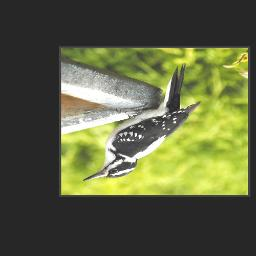Woodpecker: (82, 62, 201, 185)
